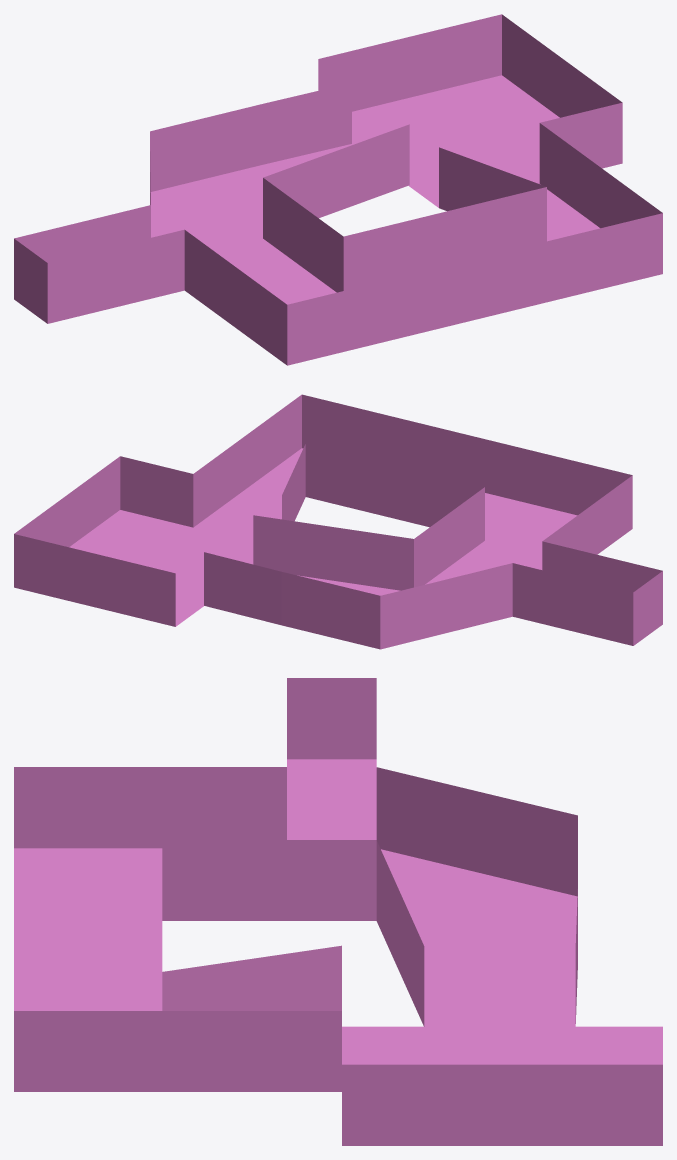
Rendered from TestMap.fbx.
3 renders of one model, top to bottom at view 1: azimuth 30°, elevation 25°; view 2: azimuth 150°, elevation 25°; view 3: azimuth 270°, elevation 25°, orthographic. The views are drawn at different scales.
Visible parts, largest first — view 1: Cube; view 2: Cube; view 3: Cube.
Part boxes in pixels (box(x1,y1,x2,y2)): Cube: box(14, 14, 662, 365); Cube: box(14, 394, 662, 649); Cube: box(14, 678, 662, 1145).
Bounding box in the file's own units: 2045 × 200 × 1451.
